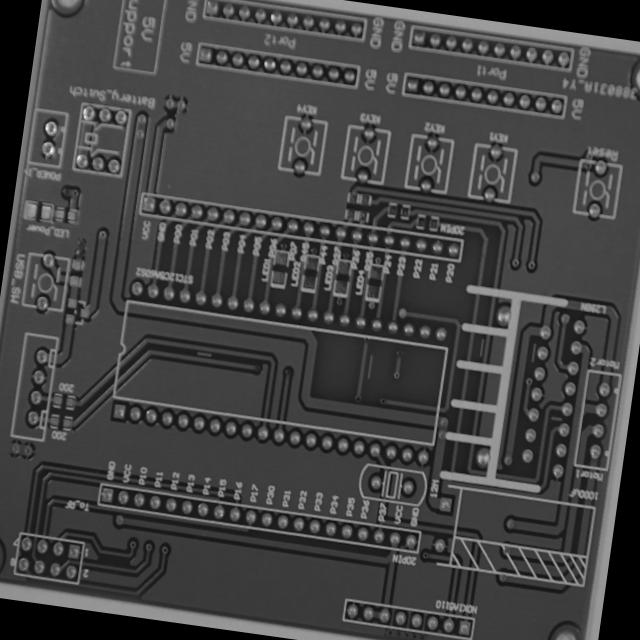spurious_copper: (363, 350, 378, 384), (193, 347, 216, 362), (546, 411, 566, 427), (476, 334, 489, 358), (528, 340, 540, 364)
